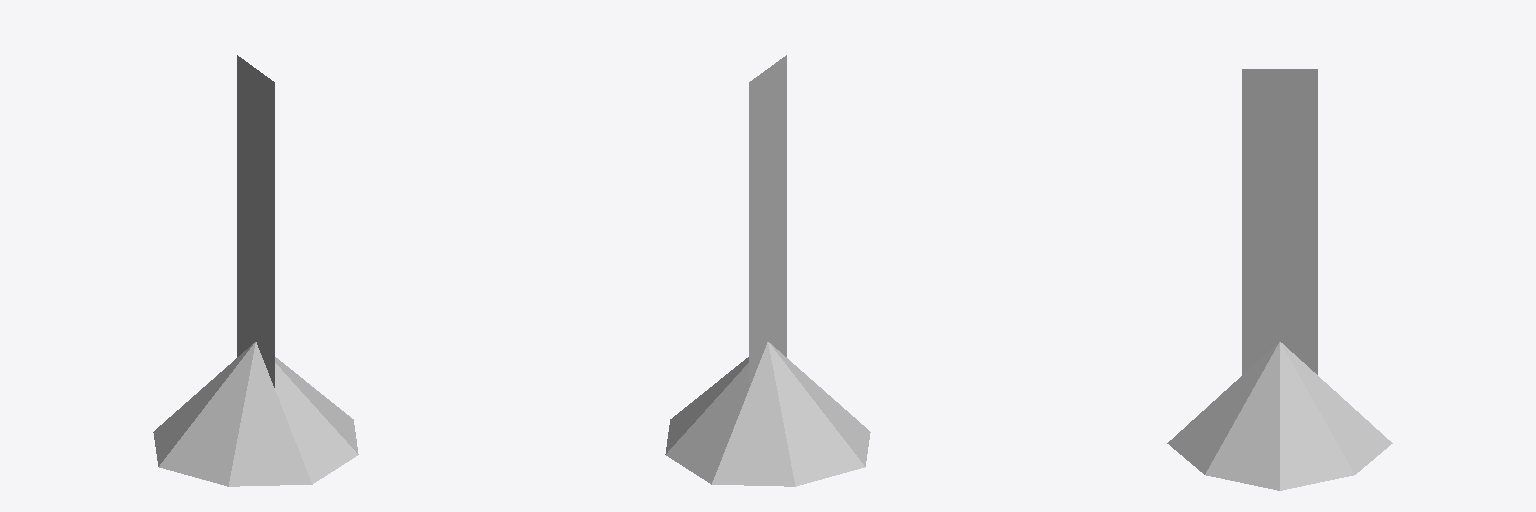
The model's file is lamp_1.obj.
The picture shows the model from 3 angles: view 1: azimuth 30°, elevation 25°; view 2: azimuth 150°, elevation 25°; view 3: azimuth 270°, elevation 25°; orthographic projection.
Parts seen in each view (by area): view 1: Lamp1_00; view 2: Lamp1_00; view 3: Lamp1_00.
Part boxes in pixels (x1,y1,x2,y2): Lamp1_00: (153,55,358,486); Lamp1_00: (665,55,870,486); Lamp1_00: (1167,69,1392,490).
Size of the model in its own units: 0.6 by 1.1 by 0.6.